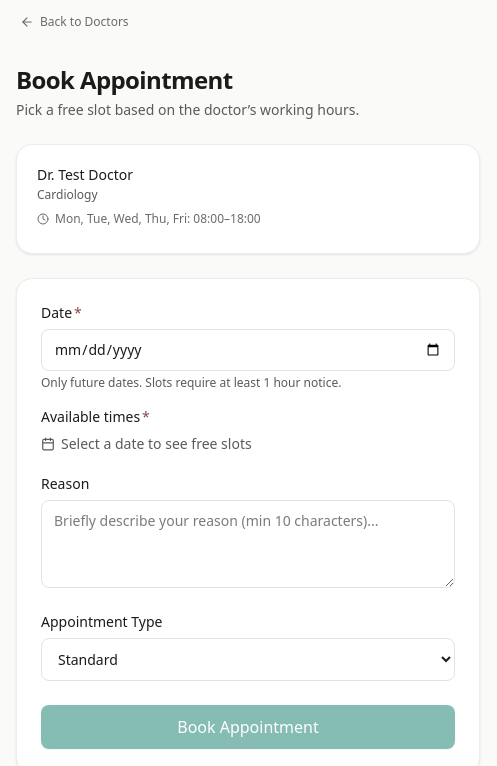
Scenario: BookAppointmentPage › loads schedule and shows free slots for the selected day
expect the text "Dr. Test Doctor" is shown: met, box left=37, top=165, right=133, bottom=184
Step 1. Type "2099-06-15" into the date field with id "appointmentDate" → (248, 350), box left=41, top=329, right=455, bottom=371
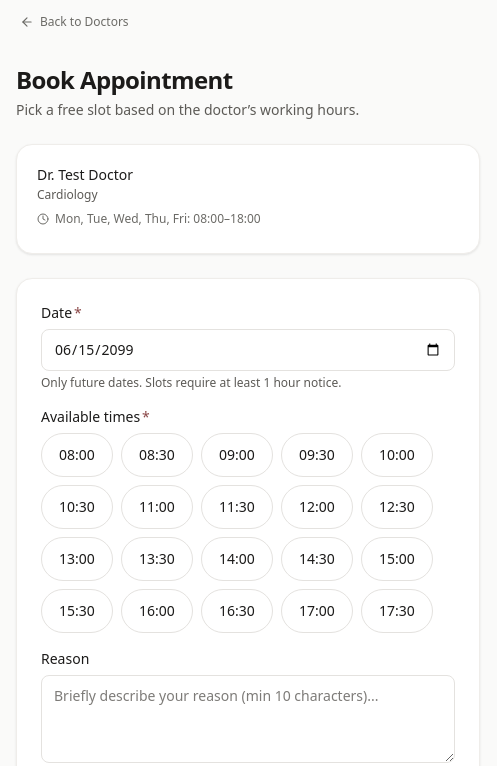
expect the option "08:00" is shown: met, box left=41, top=433, right=113, bottom=477
expect the option "10:00" is shown: met, box left=361, top=433, right=433, bottom=477
